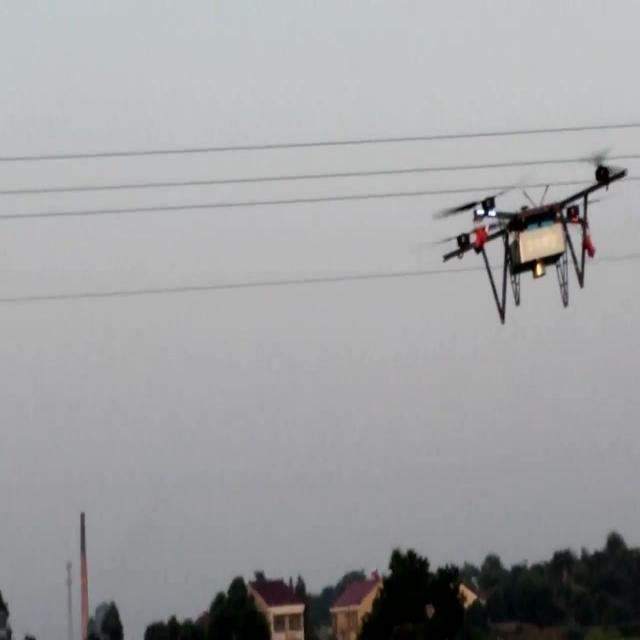UAV: (434, 148, 628, 326)
